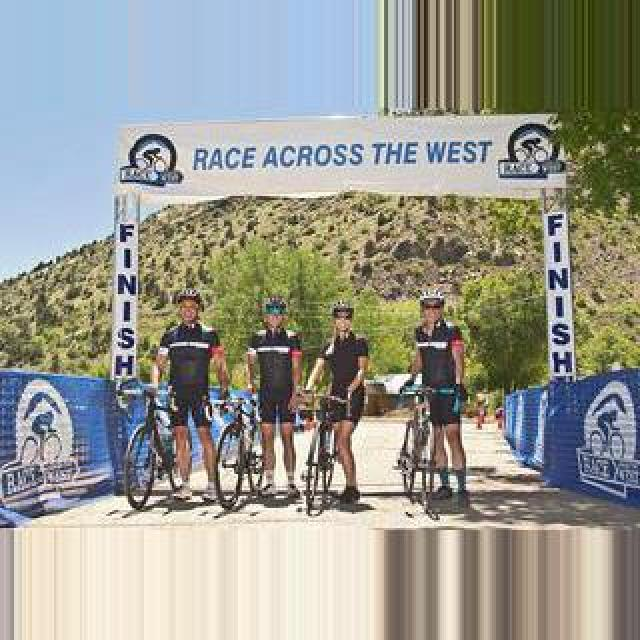MC-Bike: (150, 292, 230, 500), (404, 294, 470, 498), (306, 304, 370, 510), (244, 300, 302, 496)
Person: (120, 378, 188, 512), (212, 390, 266, 510), (300, 390, 350, 518), (396, 388, 442, 512), (22, 412, 62, 464)
